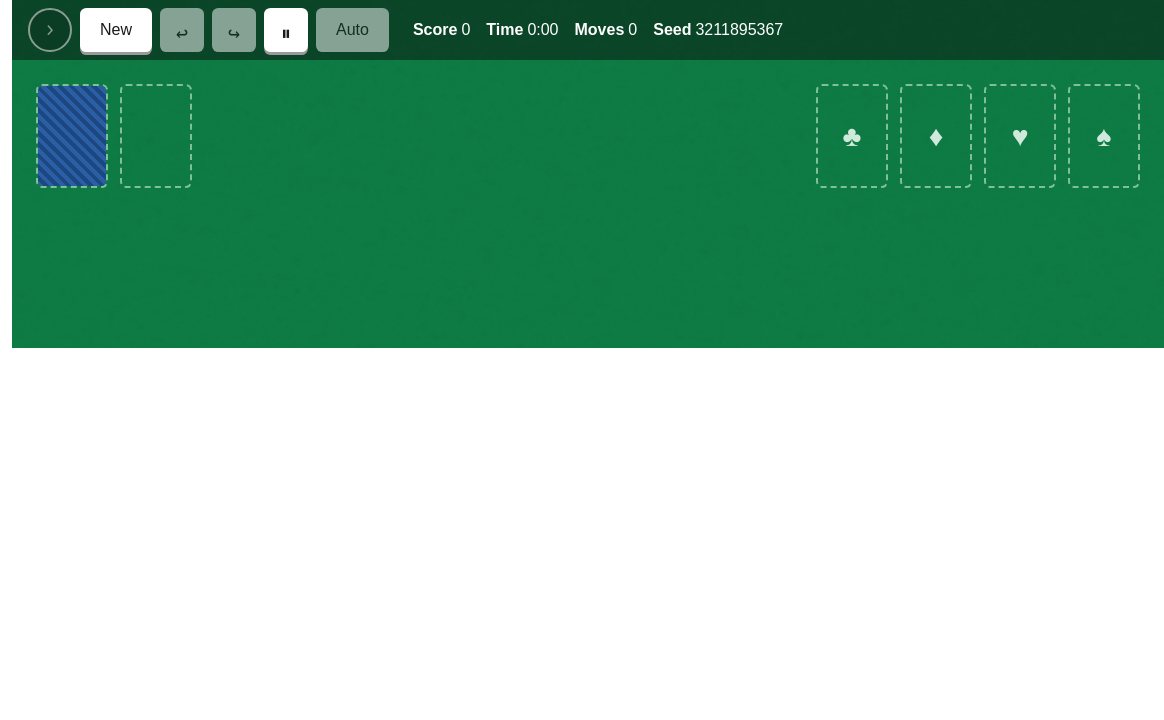
it: GameView sidebar integration › opening mounts the in-panel close button without removing the header button, and makes it inert
This screenshot has width=1164, height=720.
Click the button named "サイドバーを開く": click(50, 30) left=28, top=8, right=72, bottom=52
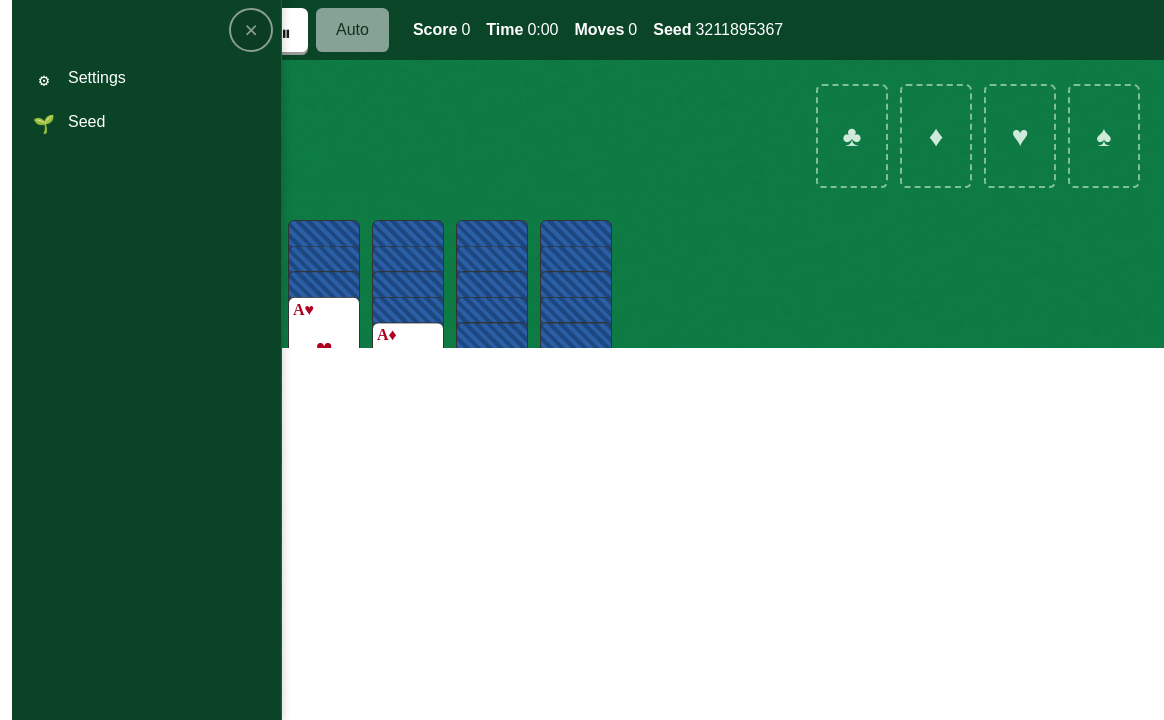
Result: the button with aria-label "Settings" is shown at left=12, top=56, right=281, bottom=100
